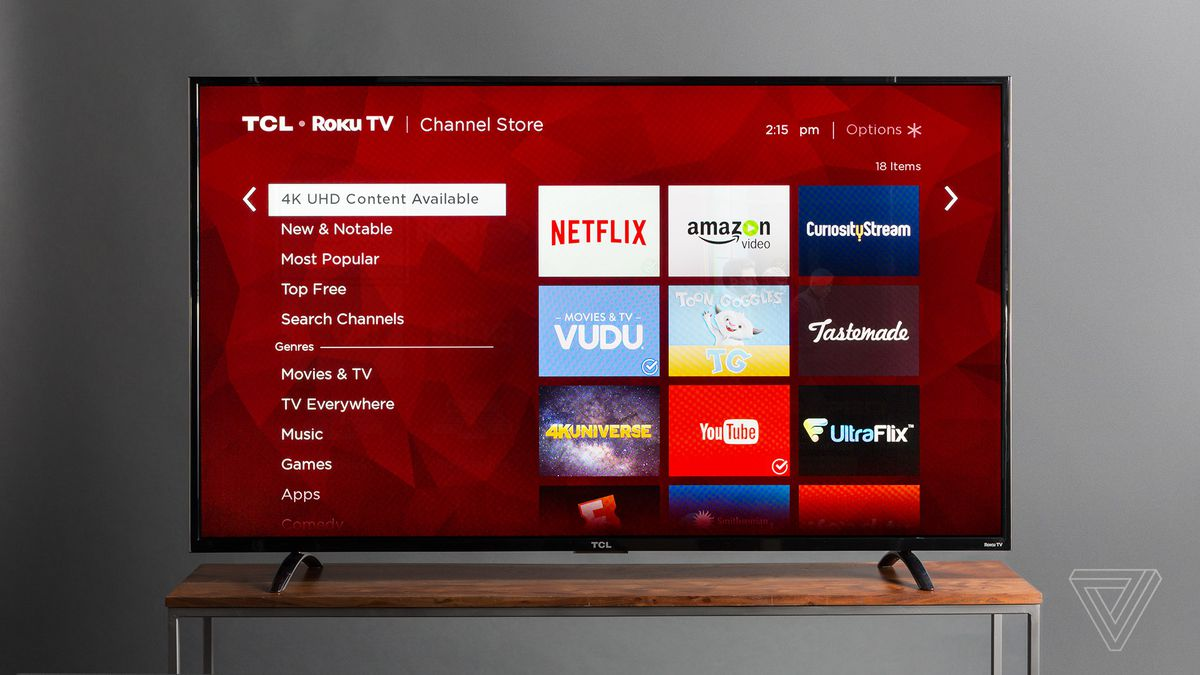tv: (179, 65, 1020, 593)
